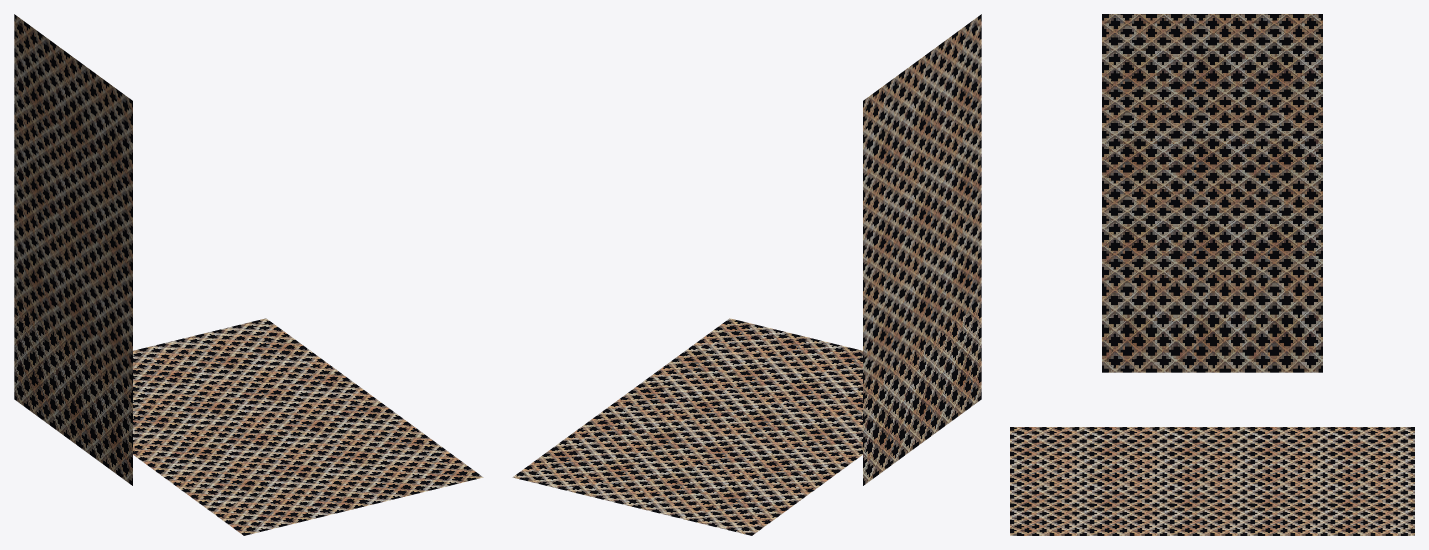
File: Bullet Station 64.fbx
3 renders of one model, left to right at view 1: azimuth 30°, elevation 25°; view 2: azimuth 150°, elevation 25°; view 3: azimuth 270°, elevation 25°, orthographic. The views are drawn at different scales.
Parts seen in each view (by area): view 1: STG08_PNW_21; view 2: STG08_PNW_21; view 3: STG08_PNW_21.
Boxes of the visible parts, box(x1,y1,x2,y2) form: STG08_PNW_21: box(14, 14, 483, 535); STG08_PNW_21: box(512, 14, 981, 535); STG08_PNW_21: box(1010, 14, 1414, 535).
Size of the model in its own units: 8800 by 11552 by 11000.
